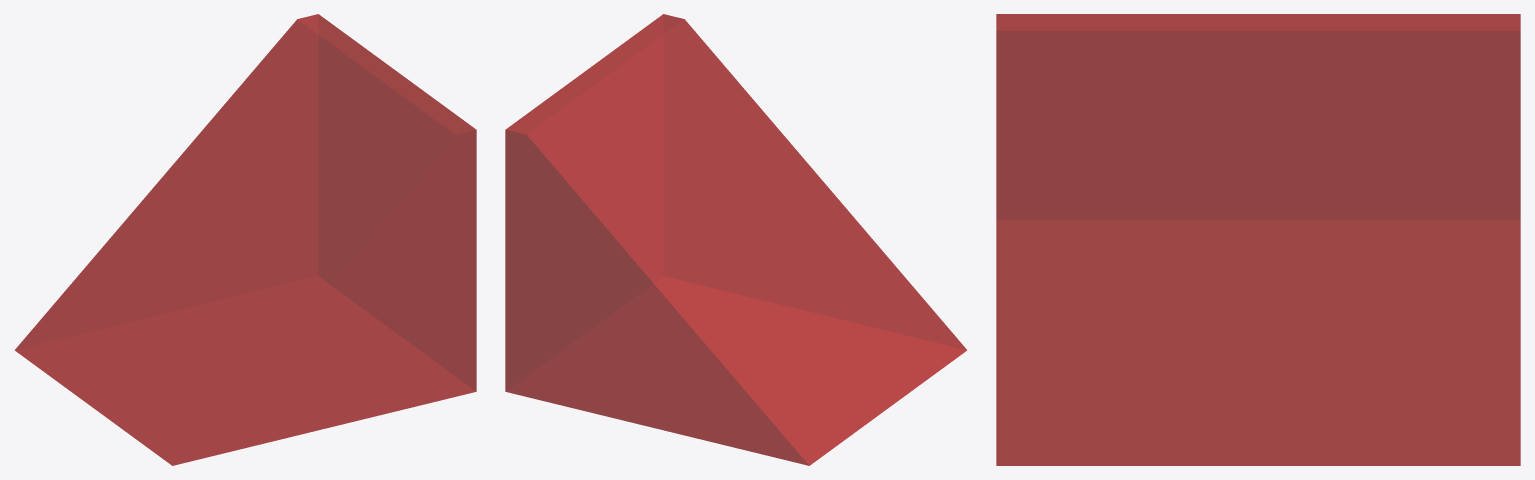
The model's file is SM_Prop_Playground_Stairs_01_Collision.fbx.
3 renders of one model, left to right at view 1: azimuth 30°, elevation 25°; view 2: azimuth 150°, elevation 25°; view 3: azimuth 270°, elevation 25°, orthographic. The views are drawn at different scales.
Visible parts, largest first — view 1: SM_Prop_Playground_Stairs_01_Collision; view 2: SM_Prop_Playground_Stairs_01_Collision; view 3: SM_Prop_Playground_Stairs_01_Collision.
Part boxes in pixels (left/top/right/bottom): SM_Prop_Playground_Stairs_01_Collision: left=14, top=14, right=476, bottom=465; SM_Prop_Playground_Stairs_01_Collision: left=505, top=14, right=967, bottom=465; SM_Prop_Playground_Stairs_01_Collision: left=996, top=14, right=1520, bottom=465.
Size of the model in its own units: 111 by 91.53 by 100.
